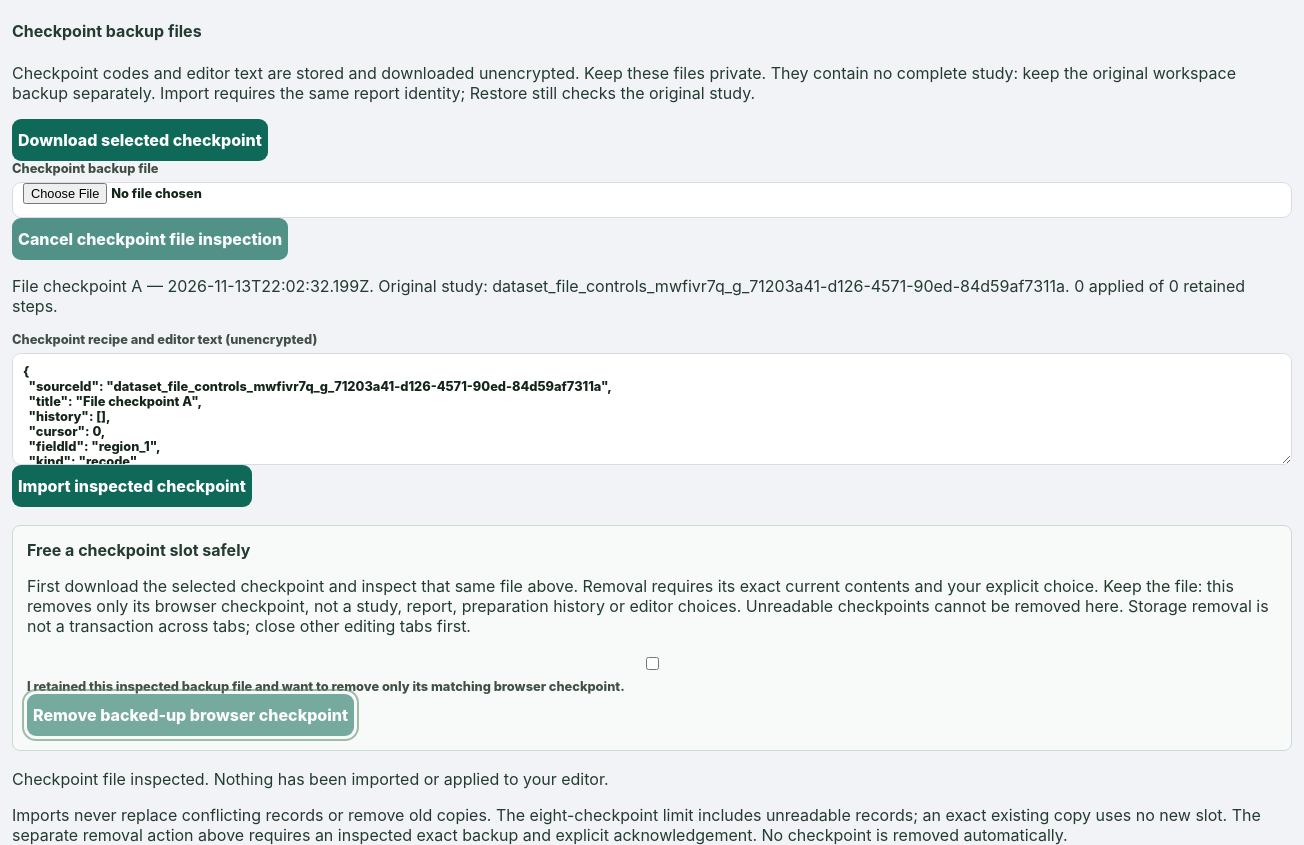
requires an inspected same-identity file and explicit acknowledgement before removing only the backed-up copy
Earlier steps of the test are not shown.
Later steps or results of the test are not shown.
Step 1. Click the button "Remove backed-up browser checkpoint" → [190, 714], box [27,694,354,736]
Step 2. Click the checkbox → [652, 663], box [31,656,1274,670]
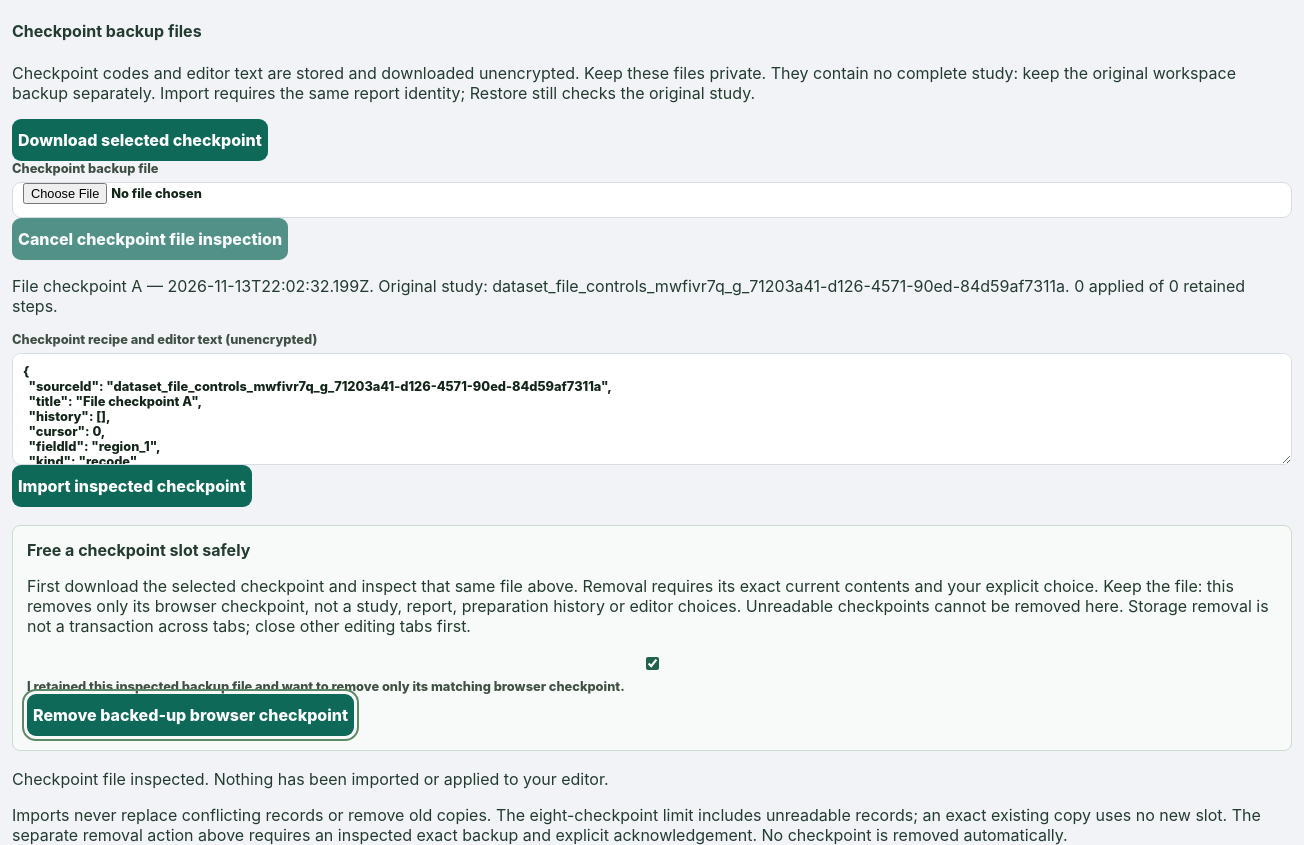
Expected: the checkbox is checked, [31,656,1274,670]
Step 3. Click the button "Remove backed-up browser checkpoint" → [190, 714], box [27,694,354,736]
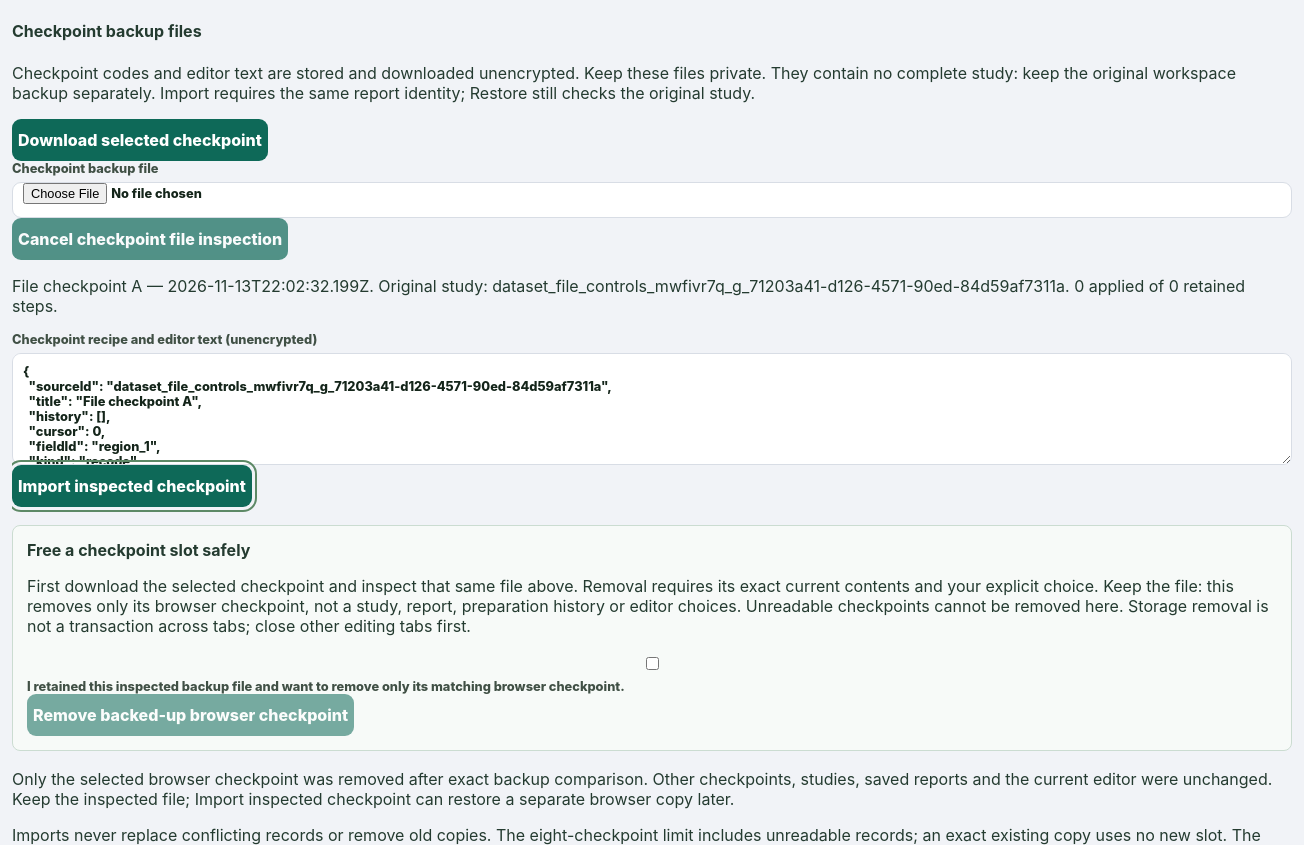
Expected: the text "Only the selected browser checkpoint was removed" is shown, [12,768,1272,808]
